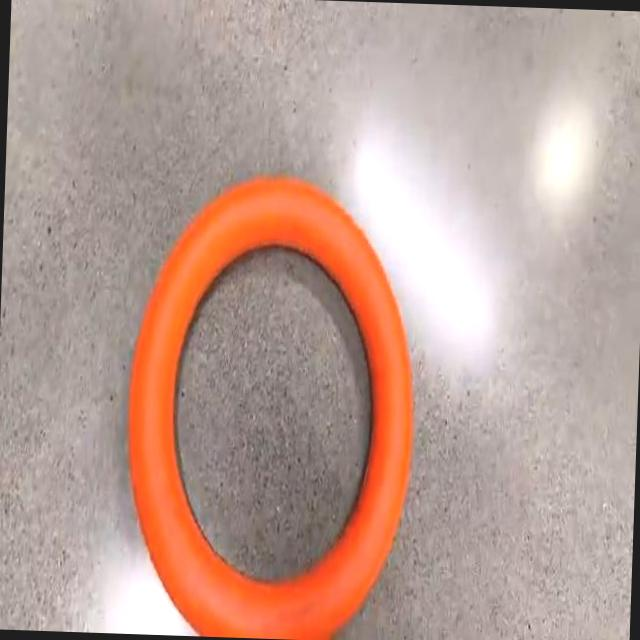note: (128, 178, 412, 637)
